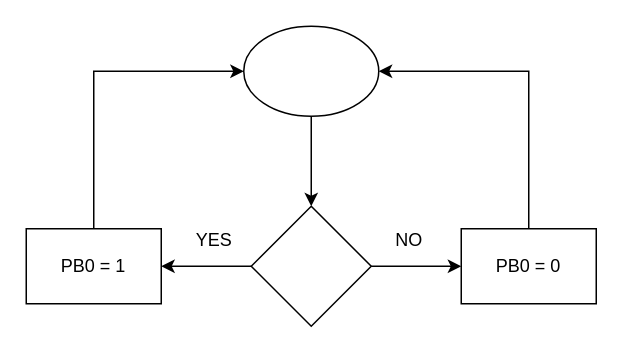
The diagram is 623 pixels wide and 353 high, and some of its shapes have lost their labels. Here are the shapes that lost their labels. From the top down, the box of each, then its label:
(242, 25, 379, 116): Bắt đầu
(250, 205, 371, 326): PD0 = 0
